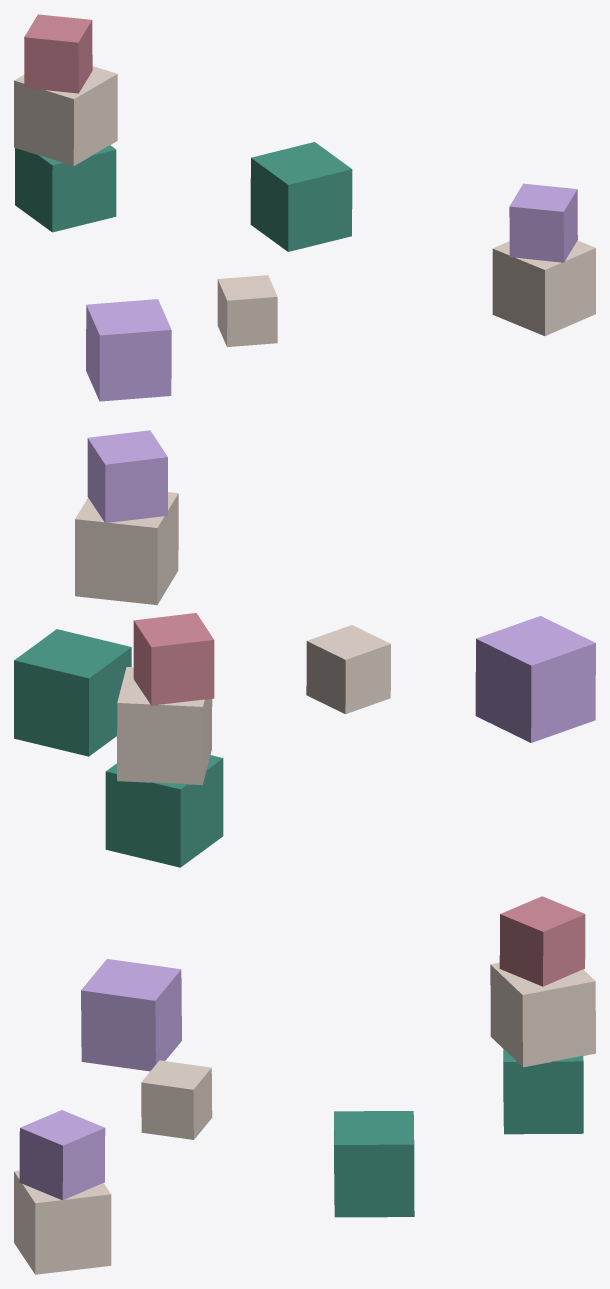
The model's file is Cubes.fbx.
3 views of the same model, one above another, from view 1: azimuth 30°, elevation 25°; view 2: azimuth 150°, elevation 25°; view 3: azimuth 270°, elevation 25° (orthographic). The views are drawn at different scales.
Parts seen in each view (by area): view 1: Cubes; view 2: Cubes; view 3: Cubes.
Boxes of the visible parts, <box> form: Cubes: <box>14,14,595,401</box>; Cubes: <box>14,430,595,867</box>; Cubes: <box>14,896,595,1274</box>.
Bounding box in the file's own units: 51.5 × 52.03 × 19.92.
